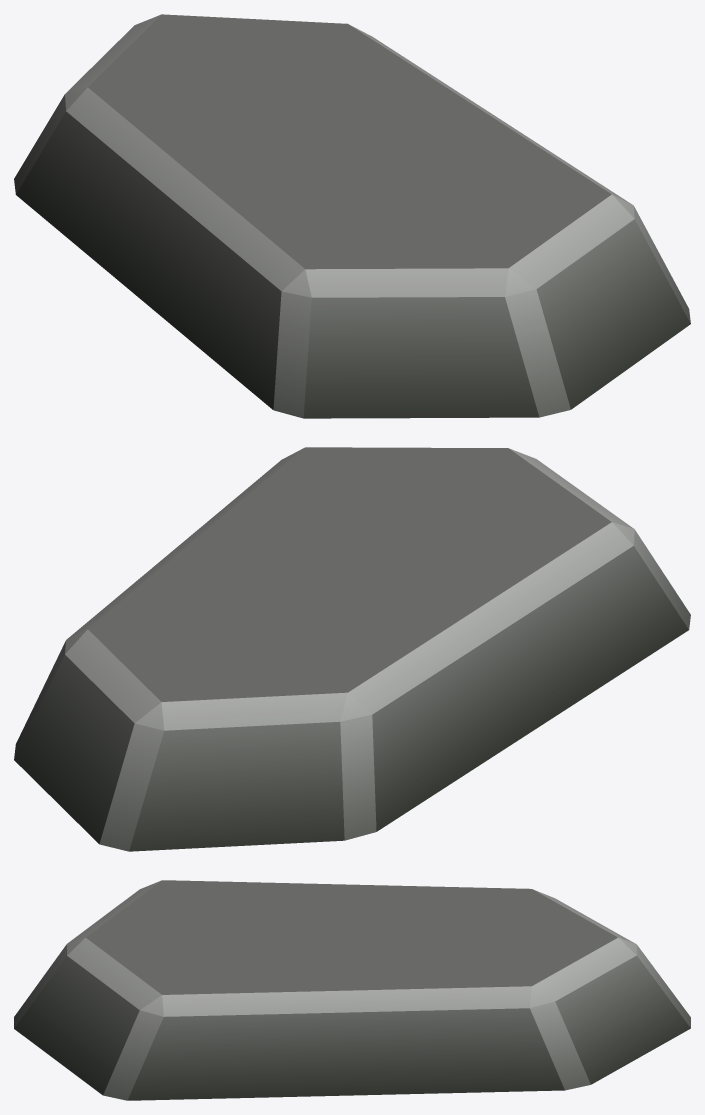
Rendered from Roadstones-1-1.fbx.
3 views of the same model, one above another, from view 1: azimuth 30°, elevation 25°; view 2: azimuth 150°, elevation 25°; view 3: azimuth 270°, elevation 25° (orthographic). The views are drawn at different scales.
Visible parts, largest first — view 1: Roadstones-1-1; view 2: Roadstones-1-1; view 3: Roadstones-1-1.
Part boxes in pixels (x1,y1,x2,y2): Roadstones-1-1: [14, 14, 690, 418]; Roadstones-1-1: [14, 447, 690, 851]; Roadstones-1-1: [14, 880, 690, 1100].
Bounding box in the file's own units: 70.46 × 18.02 × 129.
